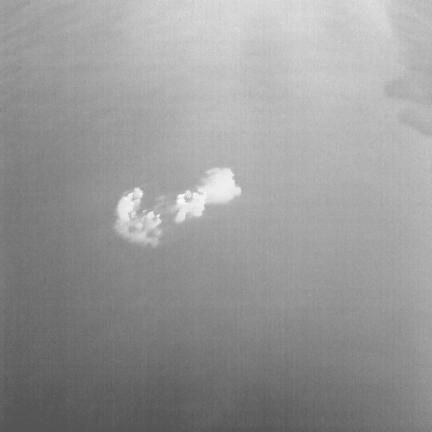flukeprints: (197, 168, 240, 202), (175, 191, 206, 222), (117, 188, 142, 221)
